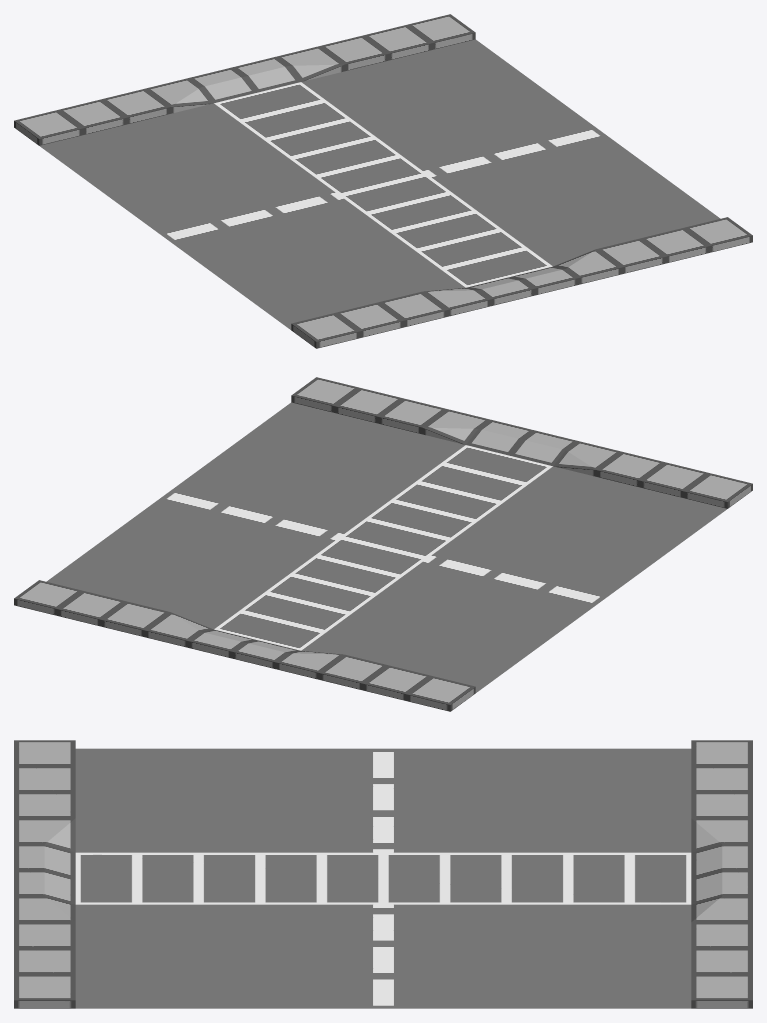
The model's file is road_crosswalk.fbx.
3 renders of one model, top to bottom at view 1: azimuth 30°, elevation 25°; view 2: azimuth 150°, elevation 25°; view 3: azimuth 270°, elevation 25°, orthographic. The views are drawn at different scales.
Visible parts, largest first — view 1: street.002; view 2: street.002; view 3: street.002.
Part boxes in pixels (box(x1,y1,x2,y2)): street.002: box(14, 14, 752, 348); street.002: box(14, 377, 752, 711); street.002: box(14, 740, 752, 1008).
Size of the model in its own units: 1000 by 15 by 1200.
Materials: 1 (1 with a texture image).
